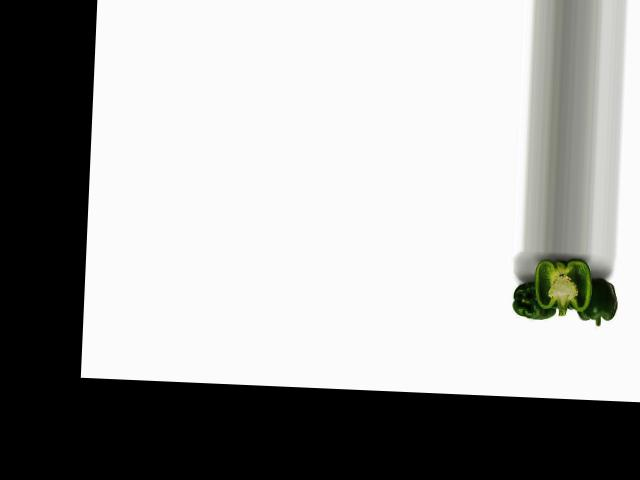bell_pepper: (508, 275, 561, 324)
